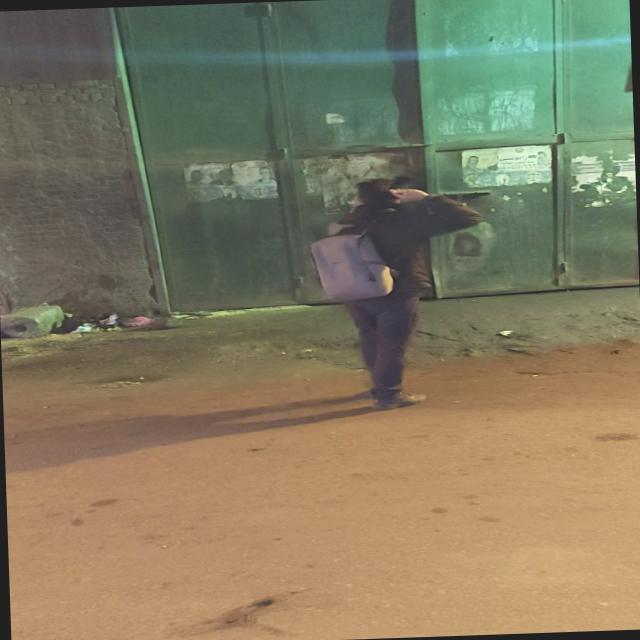long weapon: (335, 176, 417, 242)
